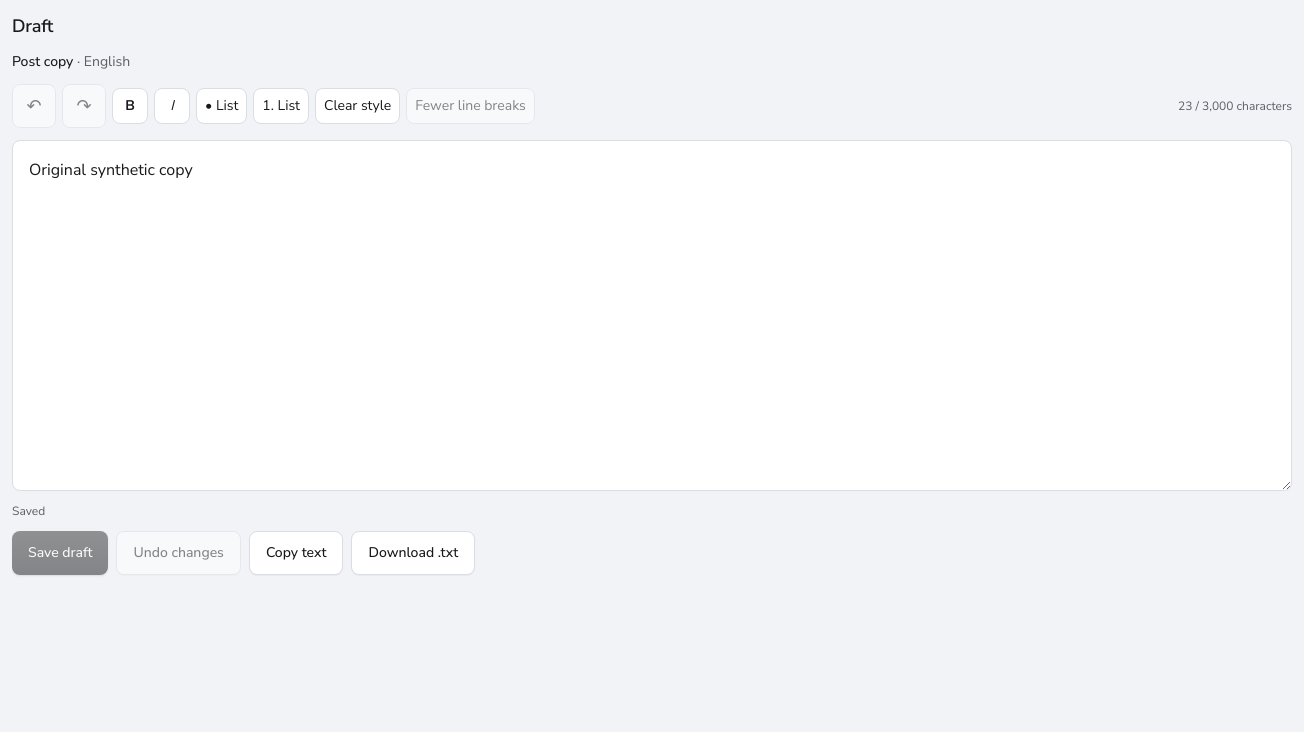
Scenario: PostEditor save notification (CS-050) › names database save outcomes in database mode
Replace the text in the text box with "Database synthetic copy": (652, 315) [12, 140, 1292, 491]
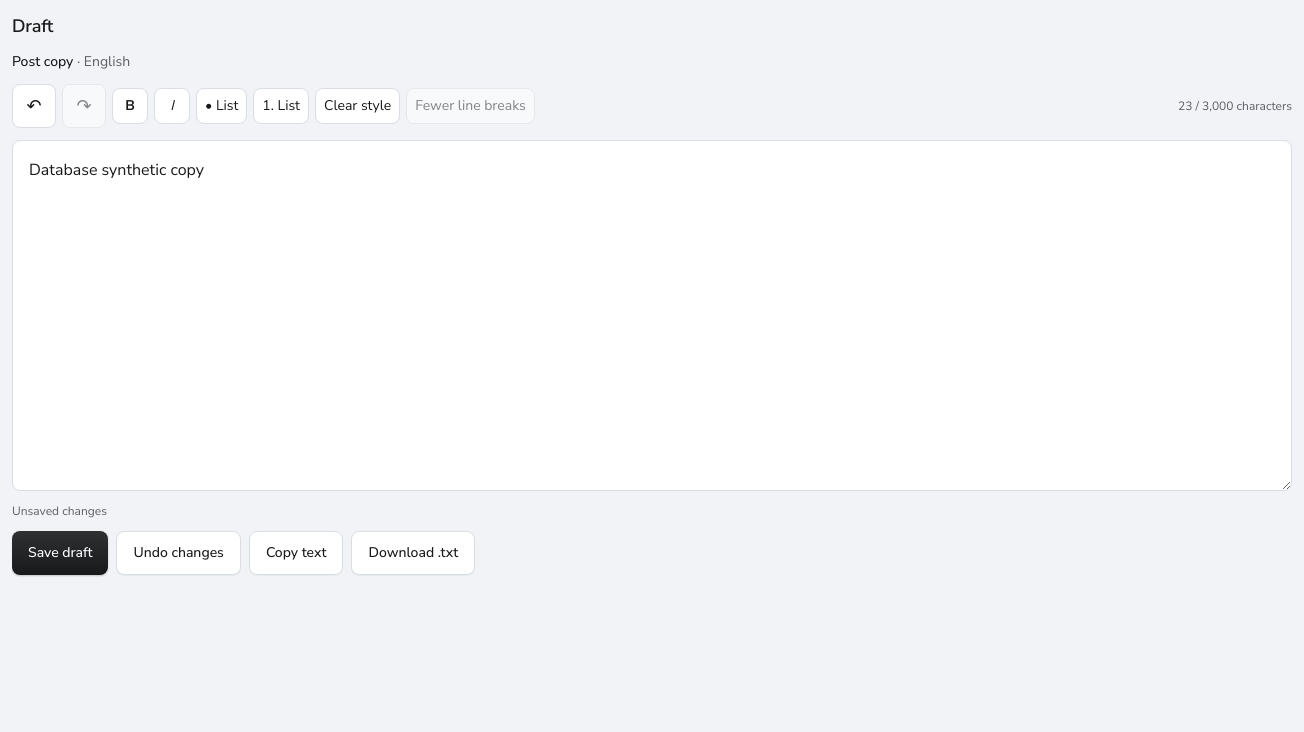
Click the button "Save draft": click(60, 553) [12, 531, 108, 575]
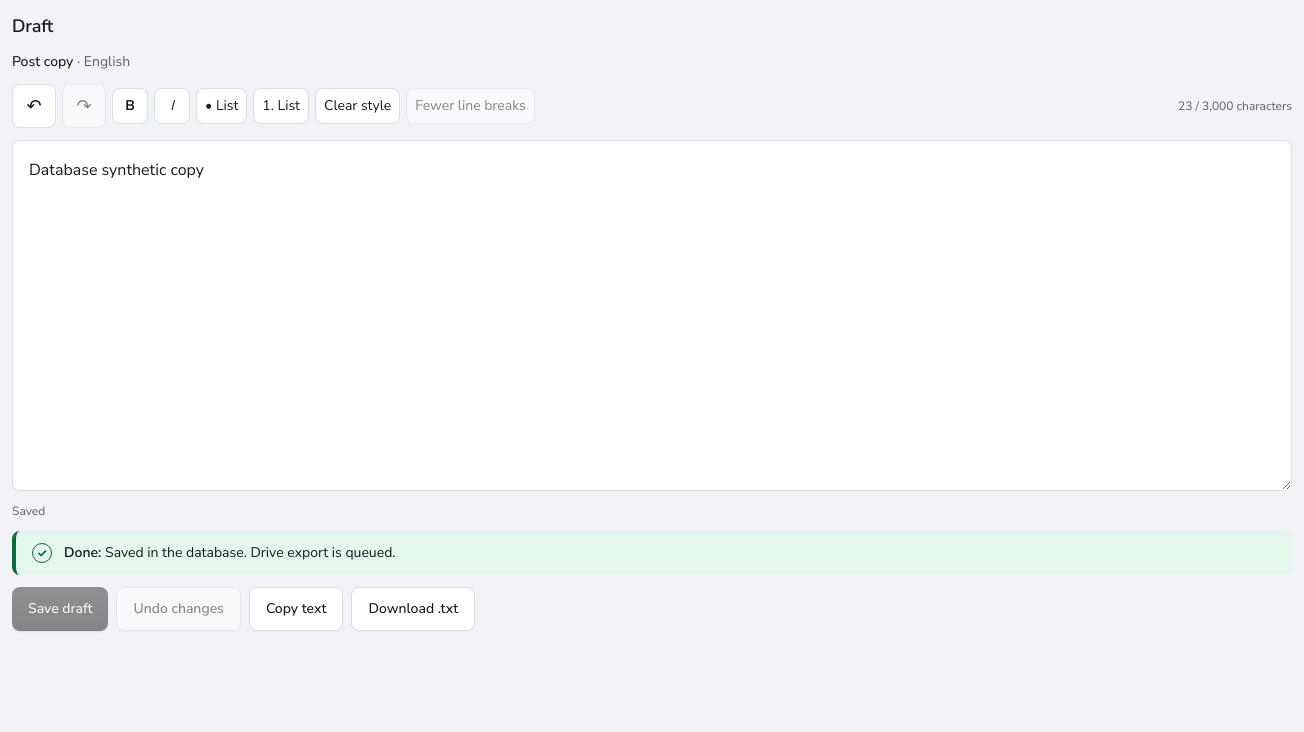
Expected: the text "Saved in the database. Drive export is queued." is shown, [105, 543, 396, 562]
